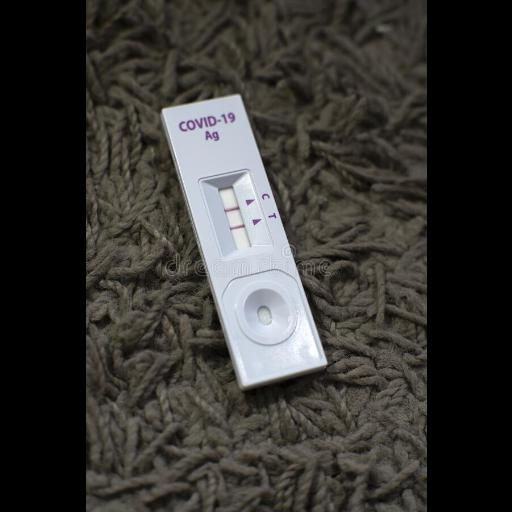Pos: (161, 92, 329, 386)
